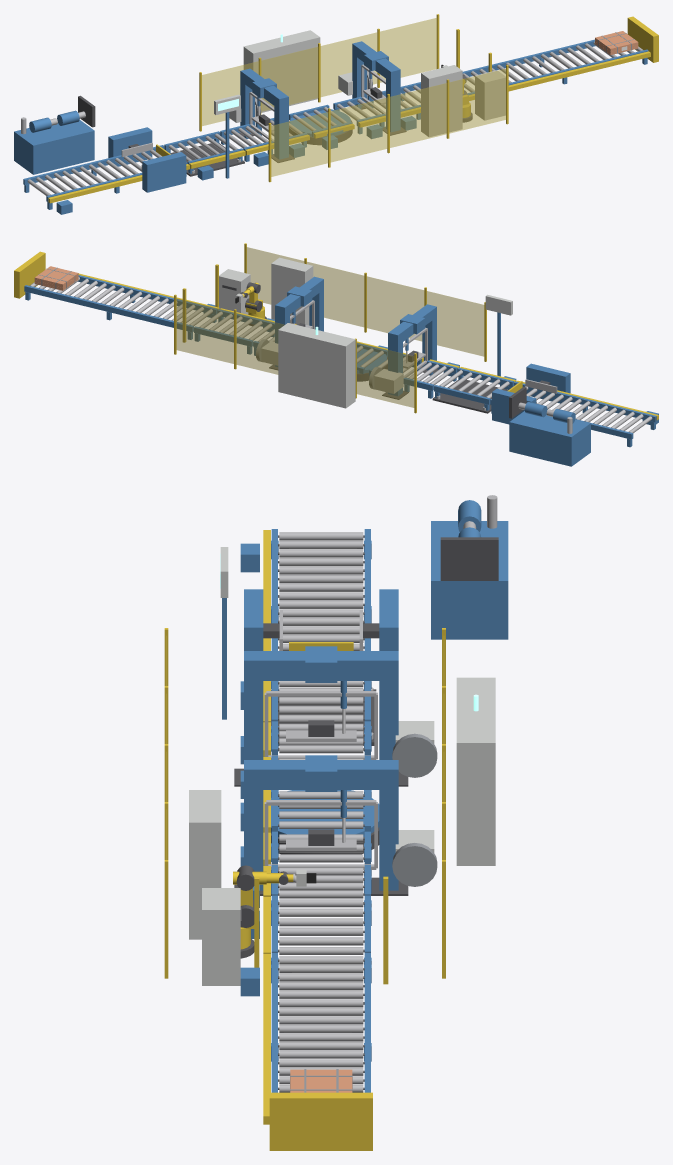
The model's file is SM_CathodeBundlingLine.fbx.
The picture shows the model from 3 angles, top to bottom: view 1: azimuth 30°, elevation 25°; view 2: azimuth 150°, elevation 25°; view 3: azimuth 270°, elevation 25°; orthographic projection. The views are drawn at different scales.
Visible parts, largest first — view 1: BL_Guards, BL_Dressing, BL_LabelStation, BL_Strap2_Arch, BL_Strap1_Arch, BL_SquareFrame, BL_Outfeed_Frame, BL_Infeed_Frame, BL_ScaleBase, BL_Weigh_Frame, BL_OutfeedStop, BL_Turntable (+6 smaller); view 2: BL_Guards, BL_Dressing, BL_Strap1_Arch, BL_LabelStation, BL_Outfeed_Frame, BL_Strap2_Arch, BL_SquareFrame, BL_ScaleBase, BL_Infeed_Frame, BL_OutfeedStop, BL_Label_Frame, BL_Weigh_Frame (+3 smaller); view 3: BL_Dressing, BL_Strap2_Arch, BL_Strap1_Arch, BL_LabelStation, BL_OutfeedStop, BL_Outfeed_Frame, BL_Turntable, BL_Guards, BL_Infeed_Frame, BL_SquareFrame, BL_ScaleBase, BL_Prop_CathodeBundle (+3 smaller).
Boxes of the visible parts, <box> form: BL_Guards: <box>199,14,508,182</box>; BL_Dressing: <box>14,30,320,174</box>; BL_LabelStation: <box>421,65,505,137</box>; BL_Strap2_Arch: <box>338,41,406,135</box>; BL_Strap1_Arch: <box>229,68,294,162</box>; BL_SquareFrame: <box>108,127,186,192</box>; BL_Outfeed_Frame: <box>462,39,650,91</box>; BL_Infeed_Frame: <box>23,145,189,214</box>; BL_ScaleBase: <box>170,94,244,178</box>; BL_Weigh_Frame: <box>164,131,245,180</box>; BL_OutfeedStop: <box>456,16,658,71</box>; BL_Turntable: <box>290,107,350,137</box>; BL_Guards: <box>174,243,486,413</box>; BL_Dressing: <box>278,323,590,466</box>; BL_Strap1_Arch: <box>369,304,438,399</box>; BL_LabelStation: <box>219,257,313,325</box>; BL_Outfeed_Frame: <box>24,273,219,339</box>; BL_Strap2_Arch: <box>256,276,323,370</box>; BL_SquareFrame: <box>492,363,570,424</box>; BL_ScaleBase: <box>432,294,512,413</box>; BL_Infeed_Frame: <box>490,380,658,447</box>; BL_OutfeedStop: <box>14,251,218,342</box>; BL_Label_Frame: <box>194,308,274,354</box>; BL_Weigh_Frame: <box>434,367,516,410</box>; BL_Dressing: <box>431,495,508,865</box>; BL_Strap2_Arch: <box>234,755,437,895</box>; BL_Strap1_Arch: <box>234,646,437,786</box>; BL_LabelStation: <box>189,790,241,985</box>; BL_OutfeedStop: <box>254,876,388,1150</box>; BL_Outfeed_Frame: <box>240,953,371,1124</box>; BL_Turntable: <box>271,790,379,837</box>; BL_Guards: <box>164,628,445,978</box>; BL_Infeed_Frame: <box>240,529,371,650</box>; BL_SquareFrame: <box>244,589,398,650</box>; BL_ScaleBase: <box>220,547,376,745</box>; BL_Prop_CathodeBundle: <box>290,1069,352,1092</box>.
Size of the model in its own units: 2185 by 274 by 533.
